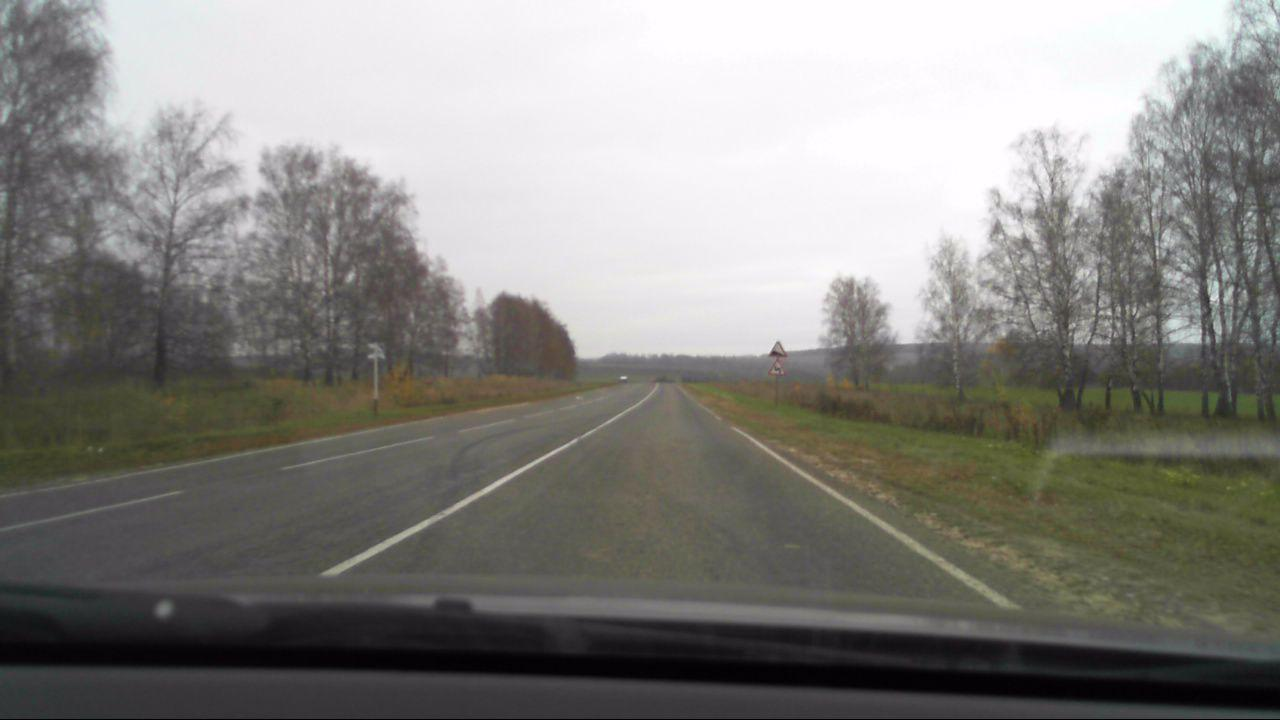1_12_2: (767, 360, 786, 376)
1_13: (769, 340, 789, 358)
